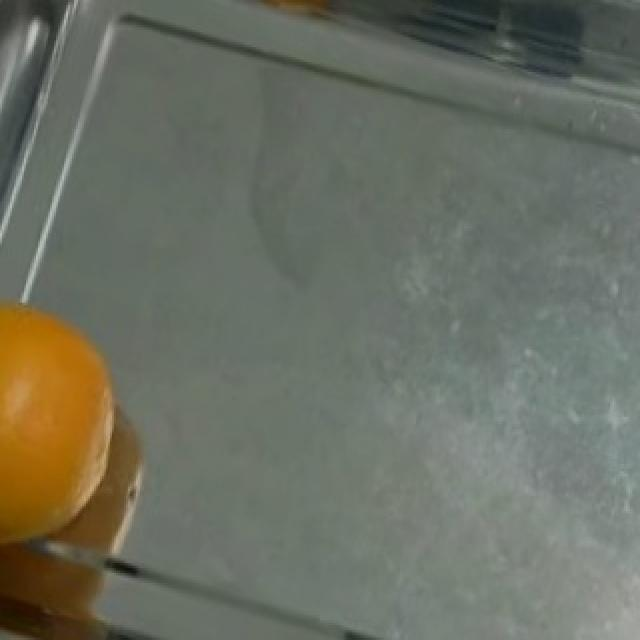Fruit: (0, 280, 140, 578)
